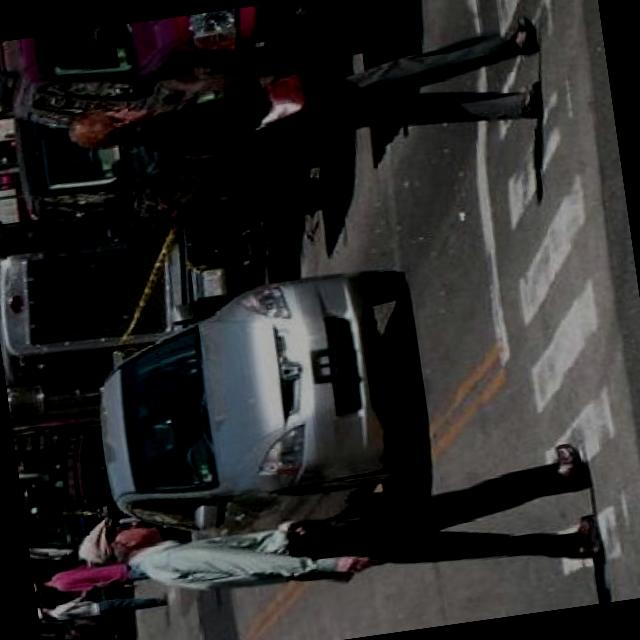Person: (75, 435, 608, 631), (55, 0, 572, 197), (38, 589, 165, 640), (34, 558, 132, 608)
